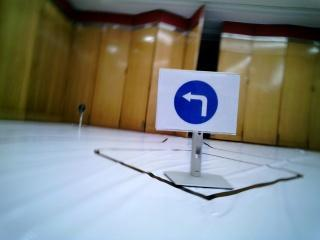left: (159, 68, 238, 131)
